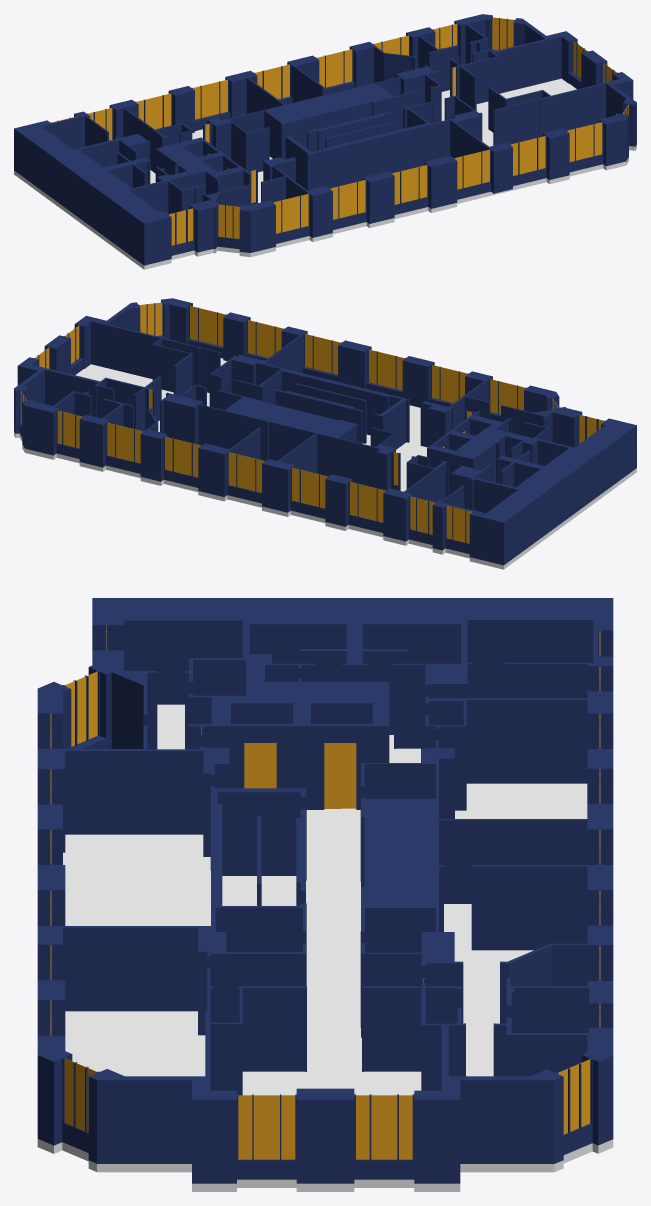
File: 26W 4th Floor.fbx
The picture shows the model from 3 angles, top to bottom: view 1: azimuth 30°, elevation 25°; view 2: azimuth 150°, elevation 25°; view 3: azimuth 270°, elevation 25°; orthographic projection. The views are drawn at different scales.
Parts seen in each view (by area): view 1: Walls, Interior Member, Object_142; view 2: Walls, Interior Member, Object_142; view 3: Walls, Object_142, Interior Member.
Boxes of the visible parts, left/top/right/bottom form: Walls: left=14, top=14, right=636, bottom=265; Interior Member: left=51, top=17, right=628, bottom=245; Object_142: left=14, top=78, right=636, bottom=269; Walls: left=14, top=298, right=636, bottom=565; Interior Member: left=20, top=302, right=604, bottom=543; Object_142: left=14, top=358, right=636, bottom=569; Walls: left=37, top=598, right=613, bottom=1183; Object_142: left=37, top=704, right=613, bottom=1191; Interior Member: left=50, top=626, right=600, bottom=1159.
Bounding box in the file's own units: 1543 × 748 × 132.
